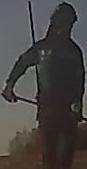gloves: (2, 79, 21, 104)
vest: (31, 35, 87, 123)
